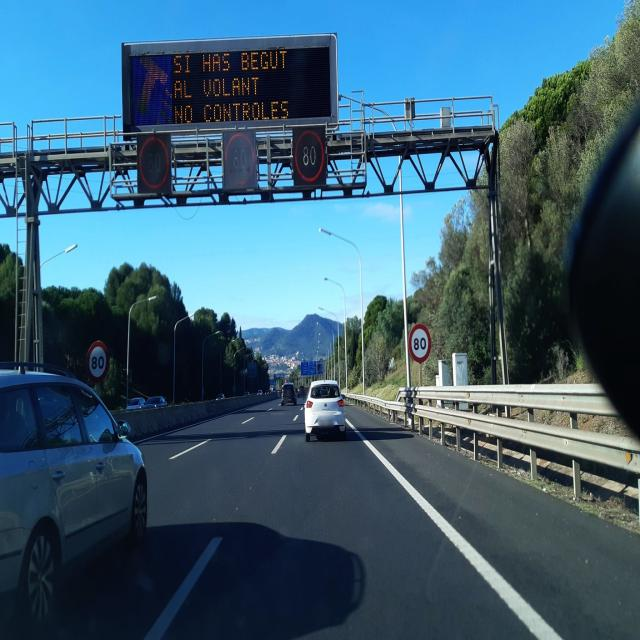car: (0, 361, 149, 634), (304, 380, 346, 441), (281, 381, 297, 406), (125, 396, 146, 412), (146, 395, 167, 408), (216, 392, 226, 402)
